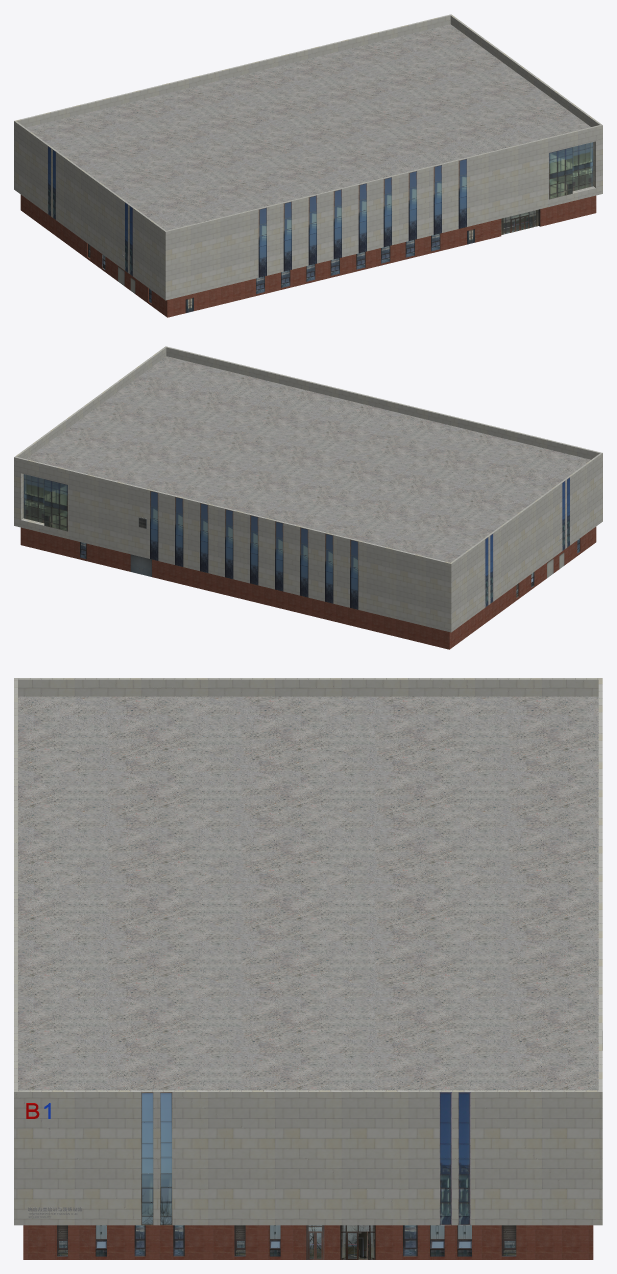
File: B1_XiangYingLiLiangPeiXun.FBX
3 renders of one model, top to bottom at view 1: azimuth 30°, elevation 25°; view 2: azimuth 150°, elevation 25°; view 3: azimuth 270°, elevation 25°, orthographic. The views are drawn at different scales.
Parts seen in each view (by area): view 1: XiangYingLiLiangPeiXun; view 2: XiangYingLiLiangPeiXun; view 3: XiangYingLiLiangPeiXun.
Boxes of the visible parts, x1,y1,x2,y2 form: XiangYingLiLiangPeiXun: (14,14,602,317); XiangYingLiLiangPeiXun: (14,346,602,649); XiangYingLiLiangPeiXun: (14,678,602,1259).
Bounding box in the file's own units: 7351 × 1420 × 4412.
